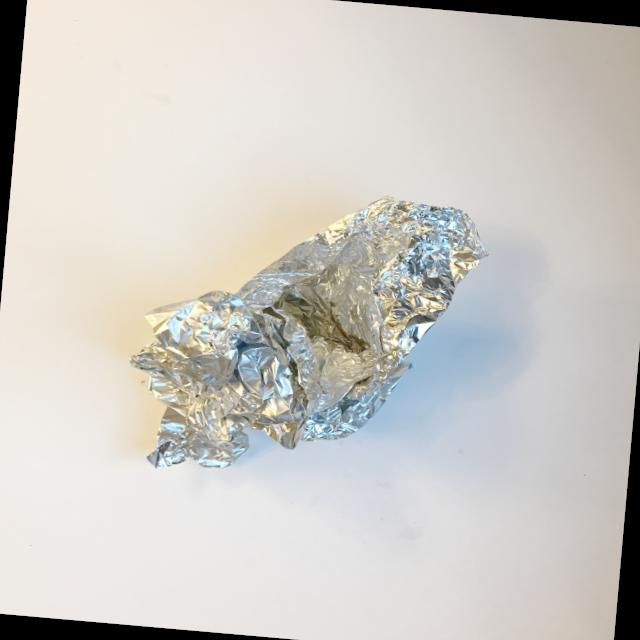Metal: (66, 155, 514, 521)
